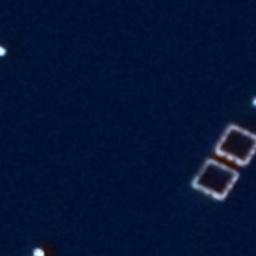square_solid: (190, 158, 242, 205), (213, 123, 256, 168)
